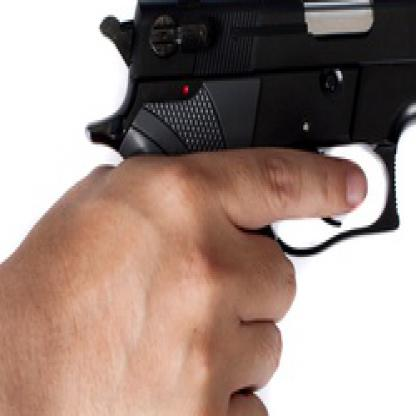gun: (84, 0, 415, 265)
